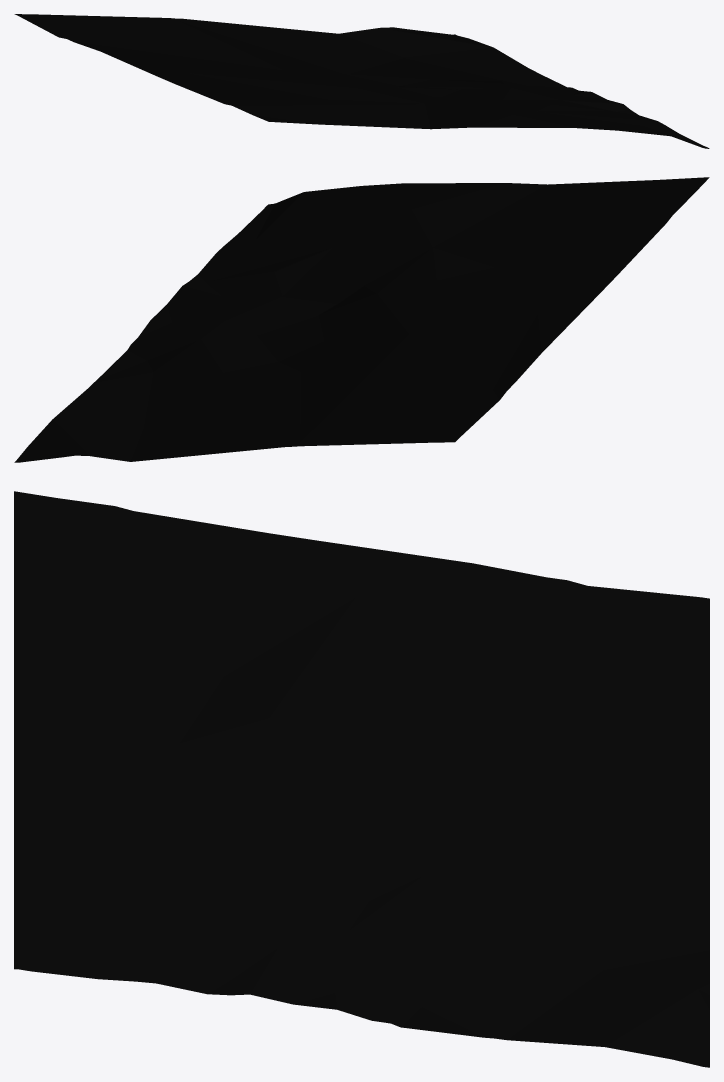
3 views of the same model, one above another, from view 1: azimuth 30°, elevation 25°; view 2: azimuth 150°, elevation 25°; view 3: azimuth 270°, elevation 25° (orthographic). The views are drawn at different scales.
Size of the model in its own units: 1.04 by 0.4677 by 1.04.
Materials: 3 (3 with a texture image).
